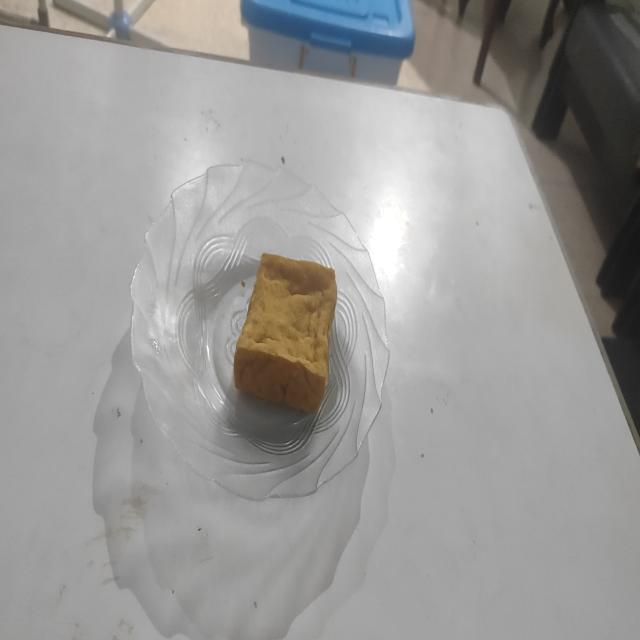tahu_goreng: (234, 253, 337, 412)
